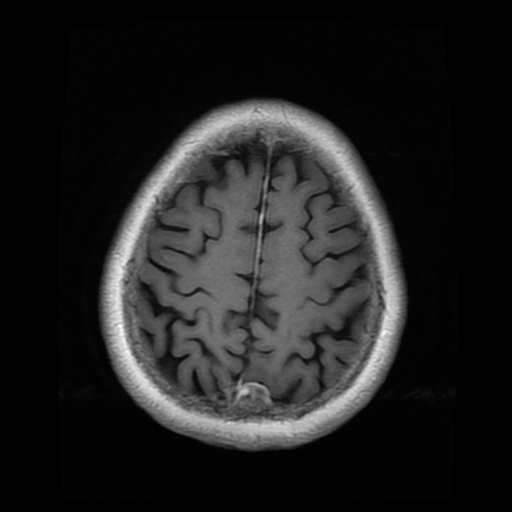meningioma: (234, 382, 271, 410)
